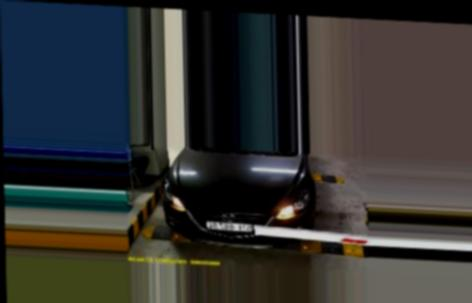License_Plate: (206, 216, 255, 234)
